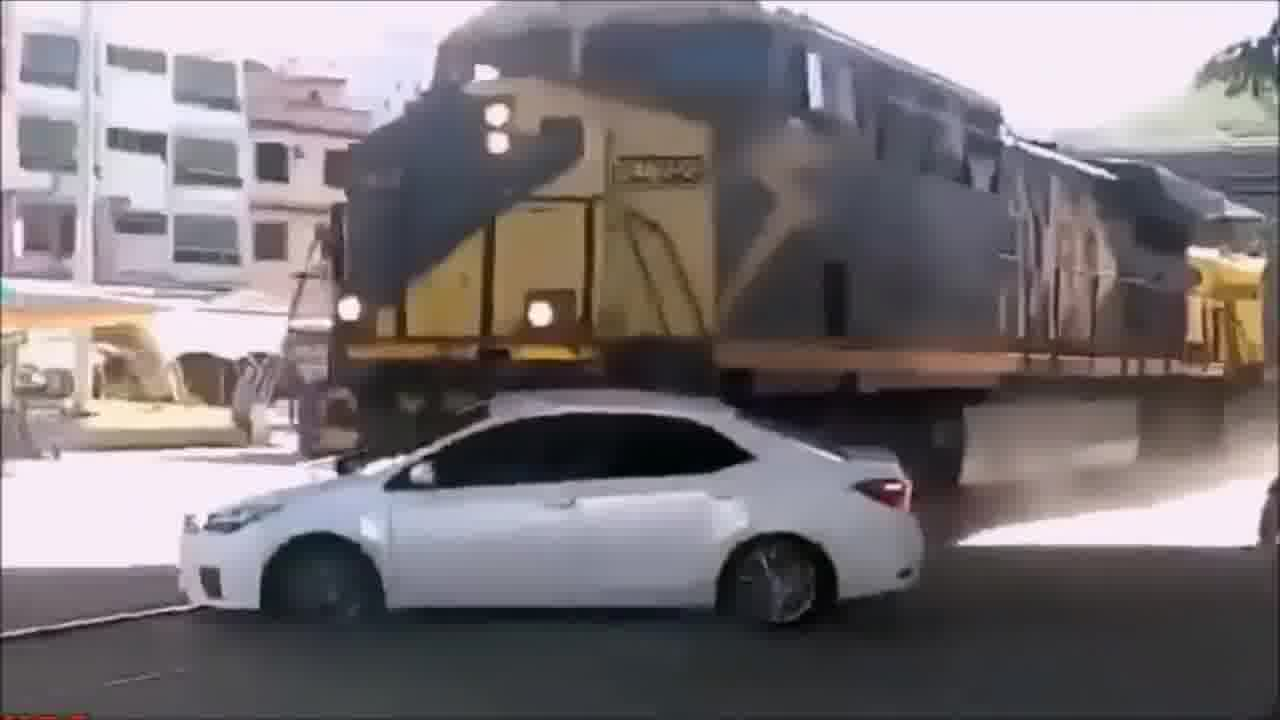crossing railway track: (154, 335, 984, 658)
